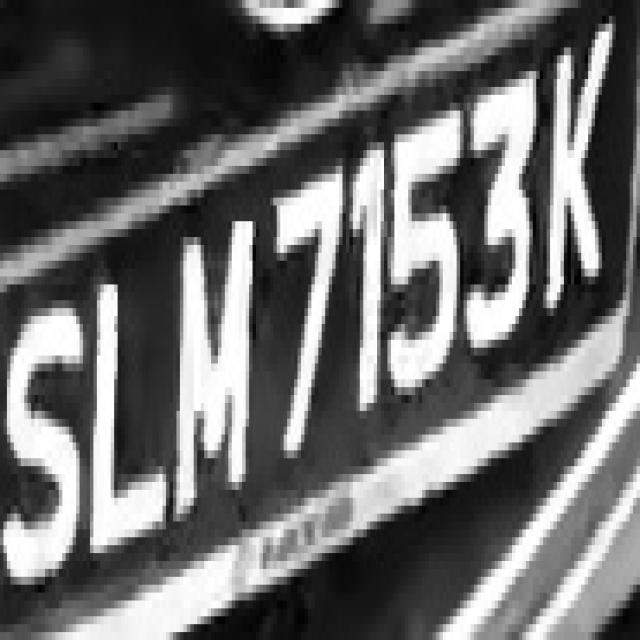1: (350, 119, 388, 418)
3: (460, 71, 540, 387)
5: (384, 103, 470, 403)
7: (259, 150, 353, 482)
K: (547, 8, 626, 324)
L: (86, 237, 173, 561)
M: (173, 190, 263, 530)
S: (7, 260, 86, 600)
